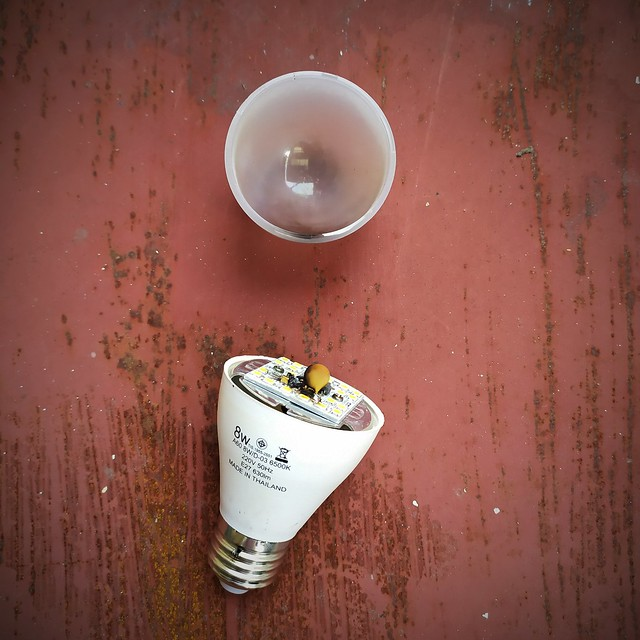Light_bulb: (203, 346, 389, 602)
